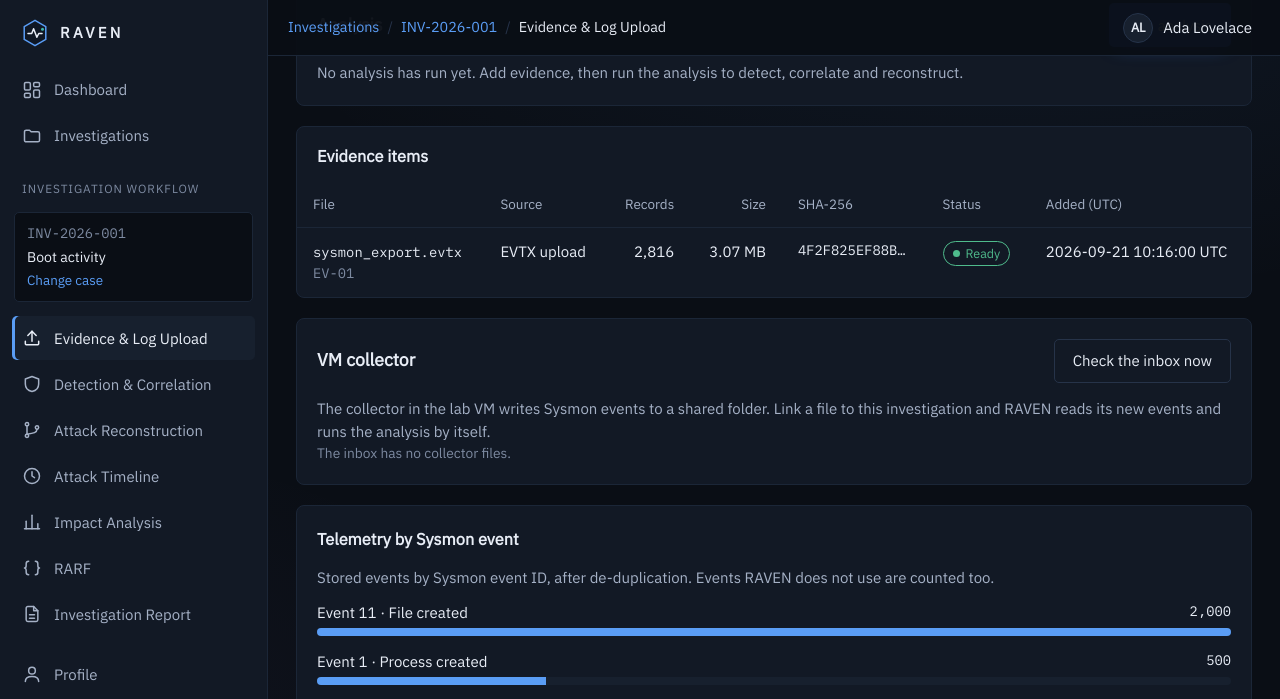
Evidence: VM collector › checks the inbox now and reports what it found
The image size is (1280, 699).
(page scrolled)
Expected: the table named "Evidence items of this investigation" is shown, [297,182,1251,296]
Click the button "Check the inbox now" at (1142, 360), box [1054,338,1231,382]
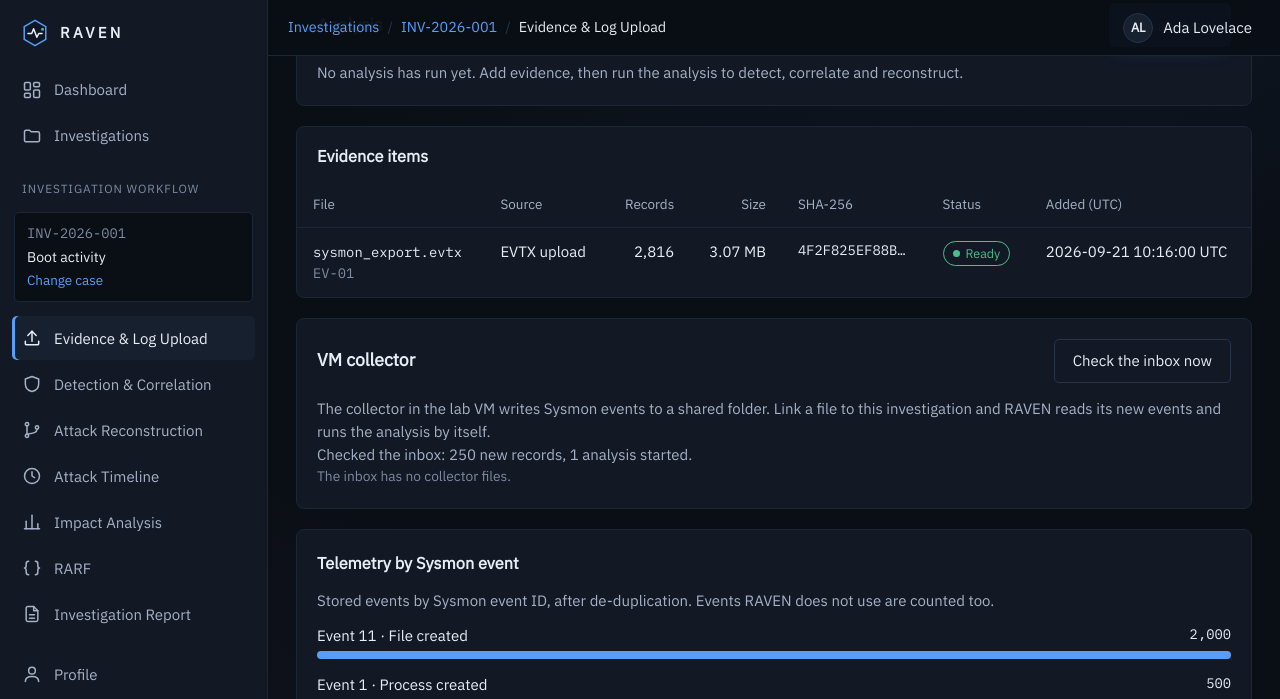
Expected: the text "Checked the inbox: 250 new records, 1 analysis started." is shown, [317,445,692,464]
